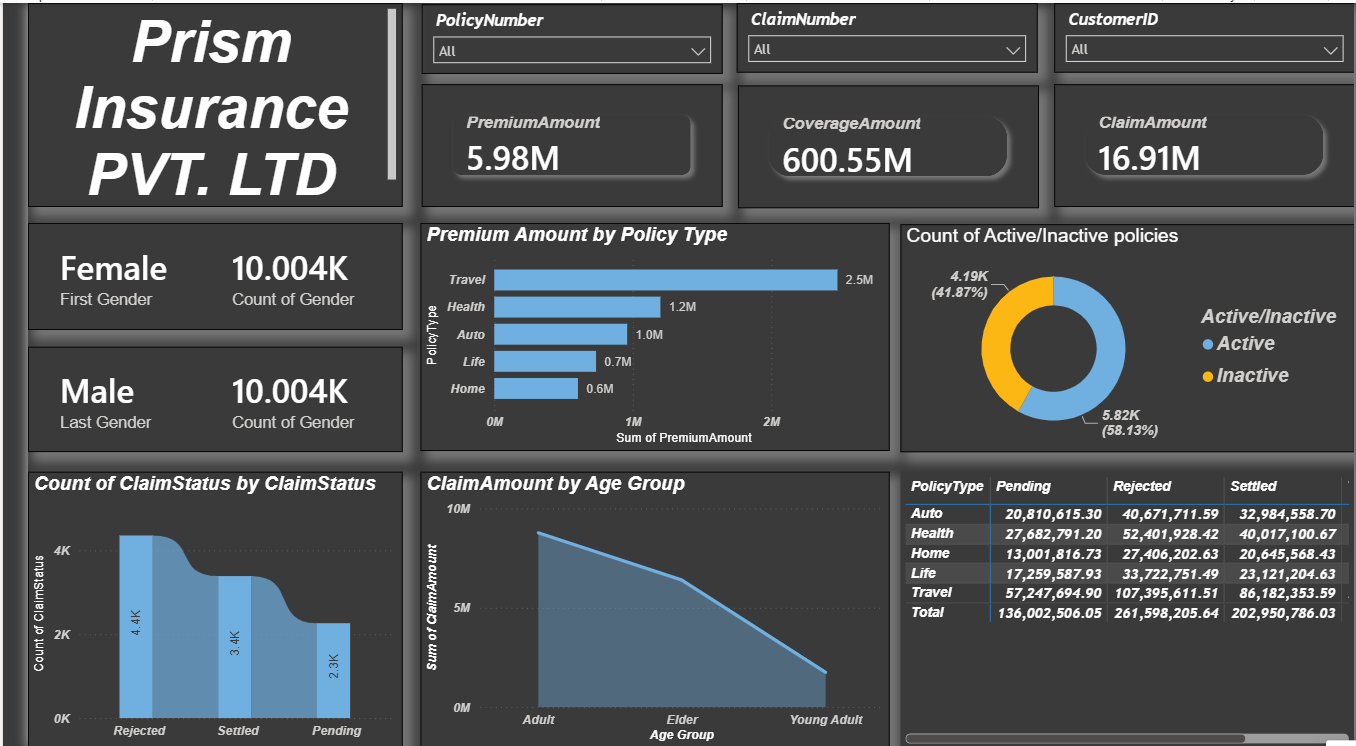

The page's visual inventory and layout, read from the dashboard file:
{"tool":"powerbi","page":{"name":"Page 1","canvas":[1280,720],"ordinal":0},"visuals":[{"type":"slicer","fields":{"Values":["InsuranceData.PolicyNumber"]},"box":[380,1.4,290,67.1],"z":0},{"type":"slicer","fields":{"Values":["InsuranceData.ClaimNumber"]},"box":[684.3,0,290,67.1],"z":1000},{"type":"slicer","fields":{"Values":["InsuranceData.CustomerID"]},"box":[990,0,290,67.1],"z":2000},{"type":"textbox","box":[0,0,361.4,197.1],"z":3000},{"type":"cardVisual","fields":{"Data":["Sum(InsuranceData.PremiumAmount)"]},"box":[380,78.6,290,118.6],"z":4000},{"type":"cardVisual","fields":{"Data":["Sum(InsuranceData.CoverageAmount)"]},"box":[685.7,80,290,118.6],"z":5000},{"type":"cardVisual","fields":{"Data":["Sum(InsuranceData.ClaimAmount)"]},"box":[990,78.6,290,118.6],"z":6000},{"type":"cardVisual","fields":{"Data":["Min(InsuranceData.Gender)","CountNonNull(InsuranceData.Gender)"]},"box":[0,212.9,361.4,102.9],"z":7000},{"type":"cardVisual","fields":{"Data":["Max(InsuranceData.Gender)","CountNonNull(InsuranceData.Gender)"]},"box":[0,331.4,361.4,101.4],"z":8000},{"type":"ribbonChart","fields":{"Category":["InsuranceData.ClaimStatus"],"Y":["CountNonNull(InsuranceData.ClaimStatus)"]},"box":[0,452.9,361.4,267.1],"z":9000},{"type":"barChart","title":"Premium Amount by Policy Type","fields":{"Category":["InsuranceData.PolicyType"],"Y":["Sum(InsuranceData.PremiumAmount)"]},"box":[378.6,212.9,452.9,220],"z":10000},{"type":"lineChart","title":"ClaimAmount by Age Group","fields":{"Category":["InsuranceData.Age Group"],"Y":["Sum(InsuranceData.ClaimAmount)"]},"box":[378.6,452.9,452.9,267.1],"z":11000},{"type":"donutChart","title":"Count of  Active/Inactive policies","fields":{"Category":["InsuranceData.Active/Inactive"],"Y":["CountNonNull(InsuranceData.Active/Inactive)"]},"box":[842,213,438,220],"z":12000},{"type":"pivotTable","fields":{"Values":["Sum(InsuranceData.CoverageAmount)"],"Rows":["InsuranceData.PolicyType"],"Columns":["InsuranceData.ClaimStatus"]},"box":[842,453,438,267],"z":13000}]}

Visuals, with their boxes in screenshot pixels (x1, y1, x2, y2), scaled from the page's 1280x720 canvas onto the 1356x746 screenshot:
slicer - InsuranceData.PolicyNumber: select_region(403, 1, 710, 71)
slicer - InsuranceData.ClaimNumber: select_region(725, 0, 1032, 70)
slicer - InsuranceData.CustomerID: select_region(1049, 0, 1355, 70)
textbox: select_region(0, 0, 383, 204)
cardVisual - Sum(InsuranceData.PremiumAmount): select_region(403, 81, 710, 204)
cardVisual - Sum(InsuranceData.CoverageAmount): select_region(726, 83, 1034, 206)
cardVisual - Sum(InsuranceData.ClaimAmount): select_region(1049, 81, 1355, 204)
cardVisual - Min(InsuranceData.Gender) x CountNonNull(InsuranceData.Gender): select_region(0, 221, 383, 327)
cardVisual - Max(InsuranceData.Gender) x CountNonNull(InsuranceData.Gender): select_region(0, 343, 383, 448)
ribbonChart - InsuranceData.ClaimStatus x CountNonNull(InsuranceData.ClaimStatus): select_region(0, 469, 383, 745)
"Premium Amount by Policy Type" barChart: select_region(401, 221, 881, 449)
"ClaimAmount by Age Group" lineChart: select_region(401, 469, 881, 745)
"Count of  Active/Inactive policies" donutChart: select_region(892, 221, 1355, 449)
pivotTable - Sum(InsuranceData.CoverageAmount) x InsuranceData.PolicyType: select_region(892, 469, 1355, 745)
